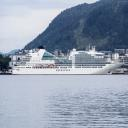cruises: (11, 44, 126, 78)
